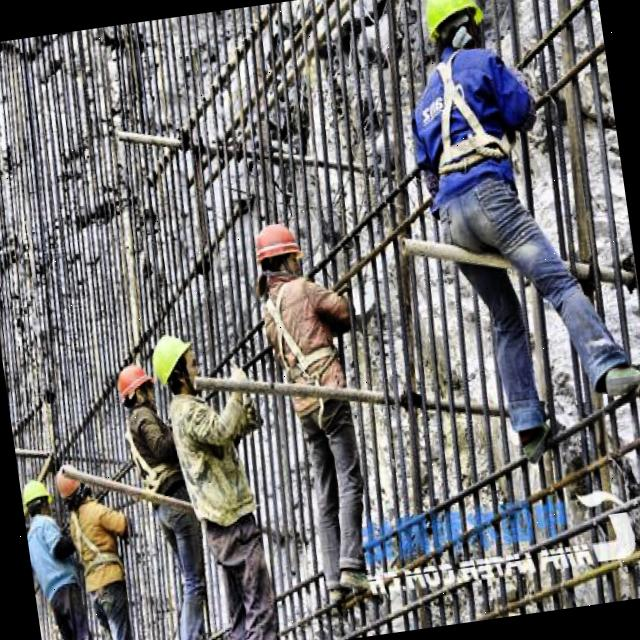helmet: (247, 214, 310, 297), (417, 0, 490, 67), (146, 329, 202, 408), (111, 363, 157, 427), (51, 460, 89, 510), (20, 467, 56, 519)
